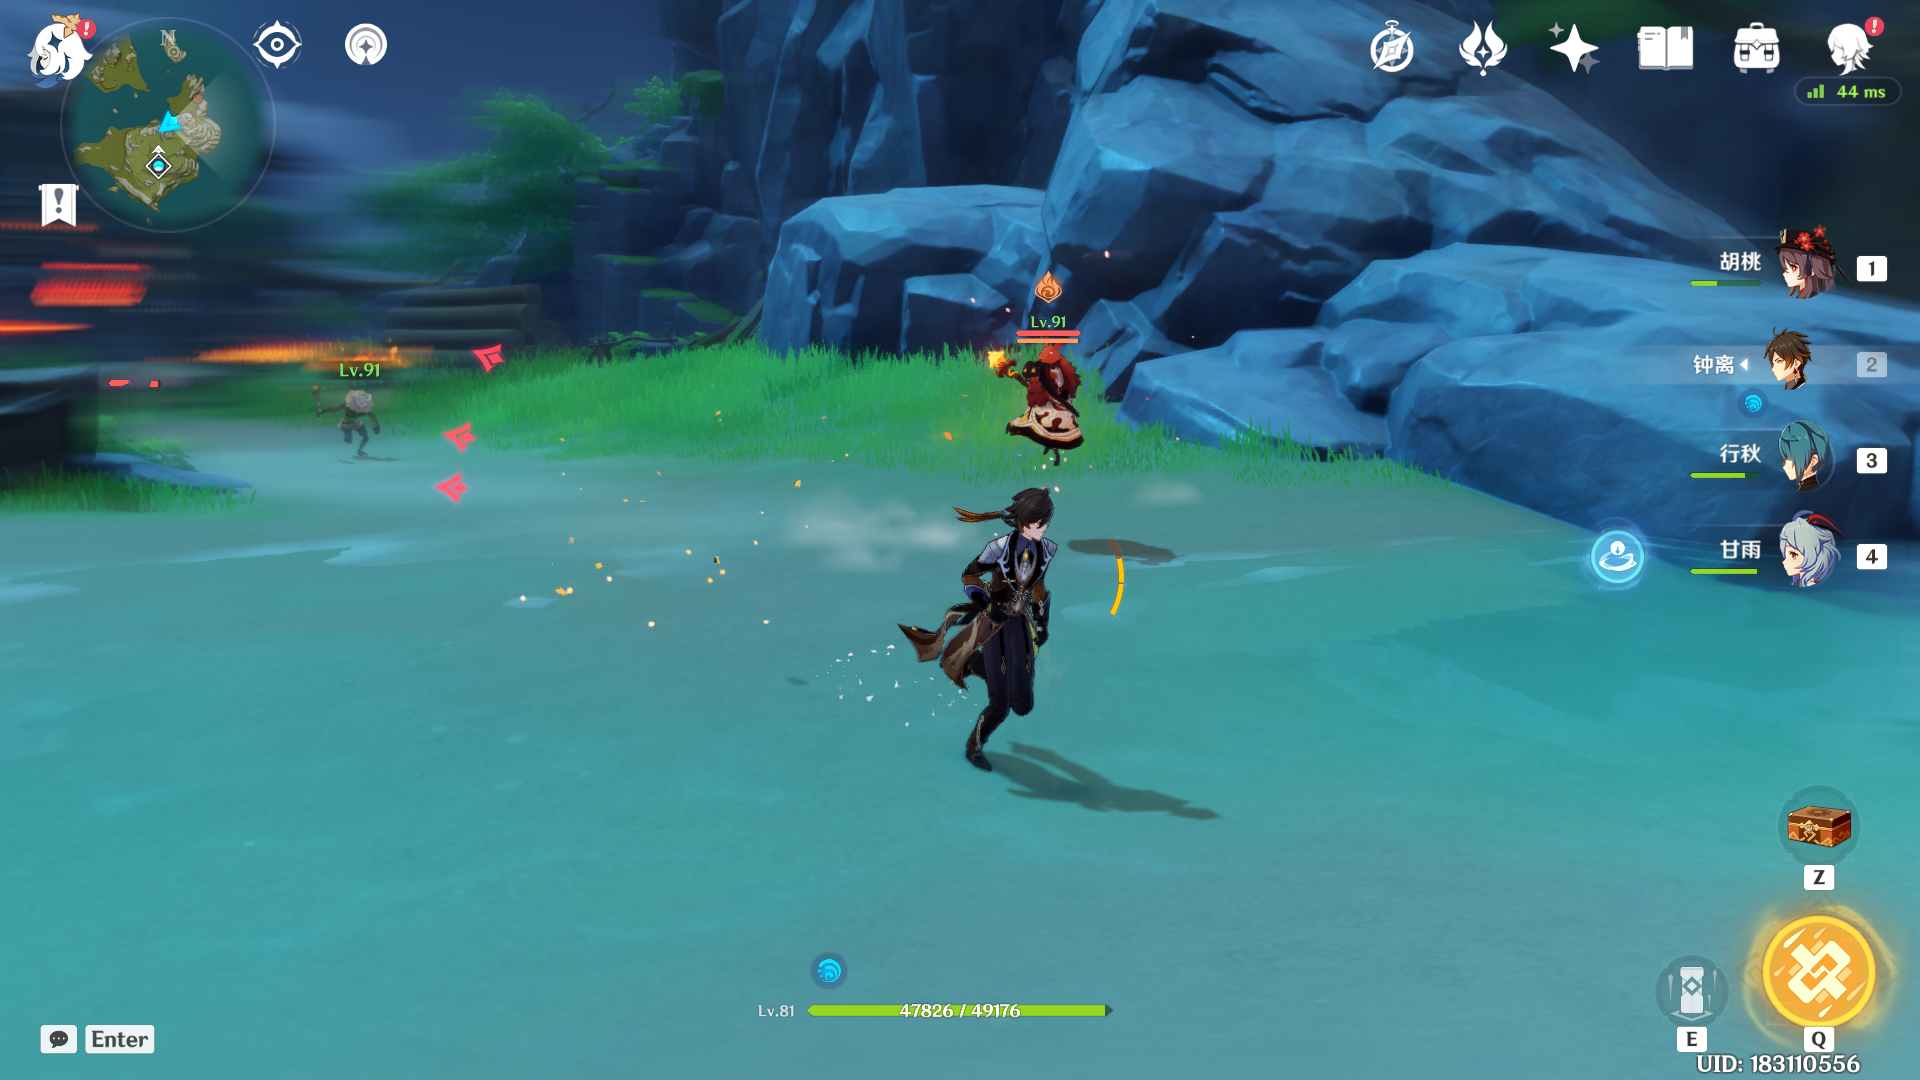caster: (963, 332, 1116, 481)
character: (851, 459, 1176, 802)
hili: (309, 386, 398, 464)
